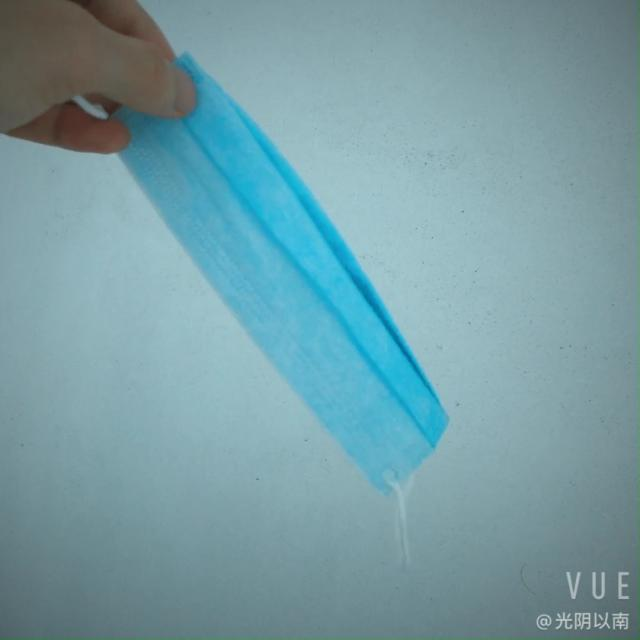non-organic waste: (64, 49, 456, 520)
